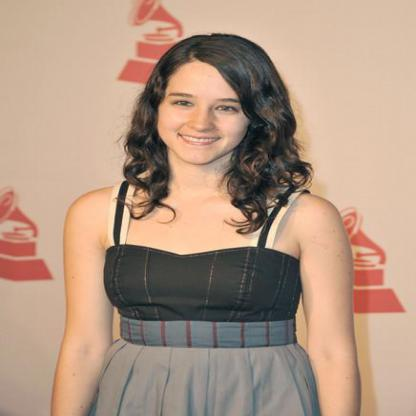long-hair: (115, 165, 304, 194)
